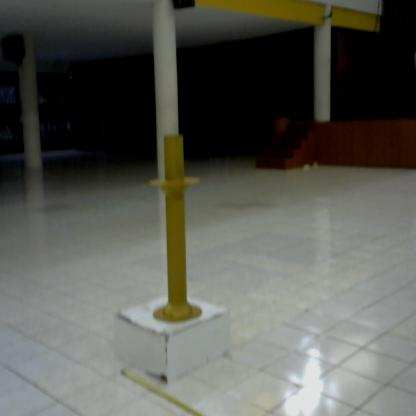pole: (142, 122, 215, 332)
